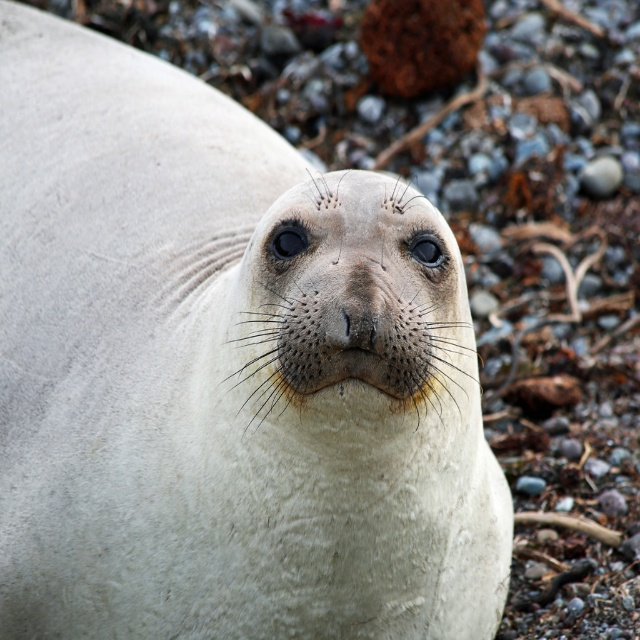Harbor seal: (0, 0, 516, 640)
